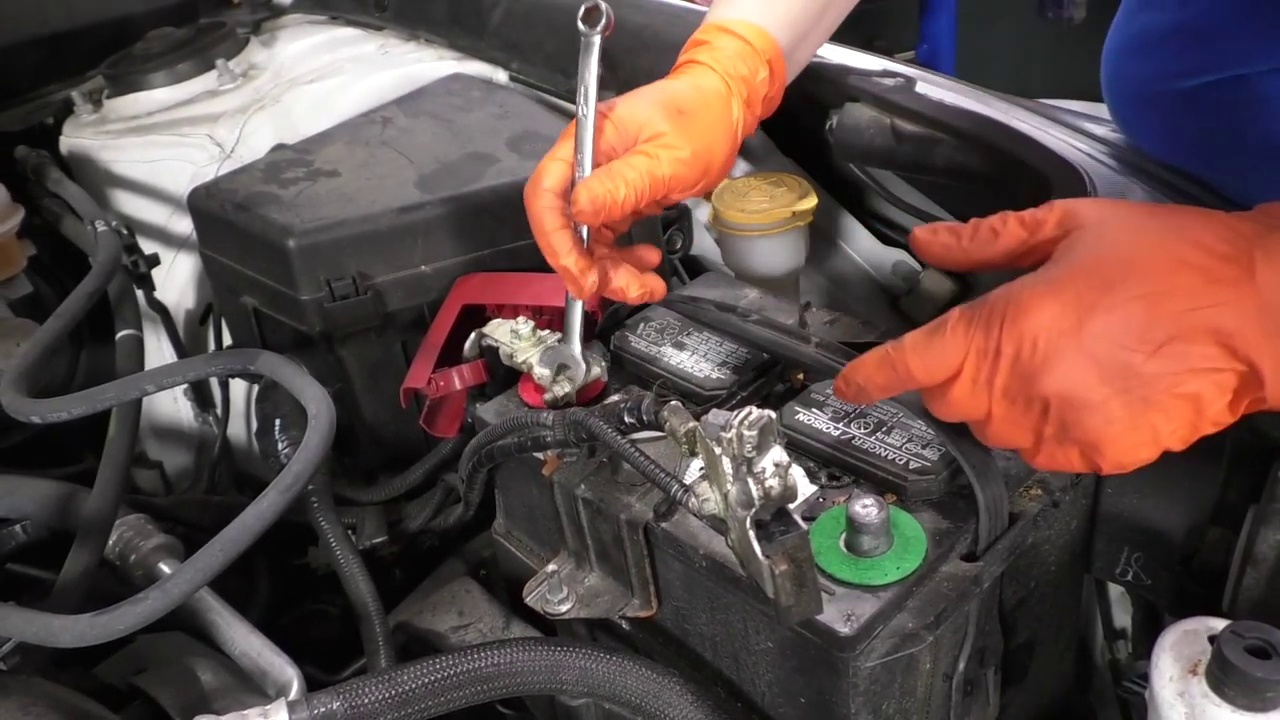battery: (472, 268, 1082, 623)
neg_disconnected: (703, 442, 929, 620)
pos_connected: (419, 264, 612, 427)
pos_touched: (497, 156, 664, 396)
